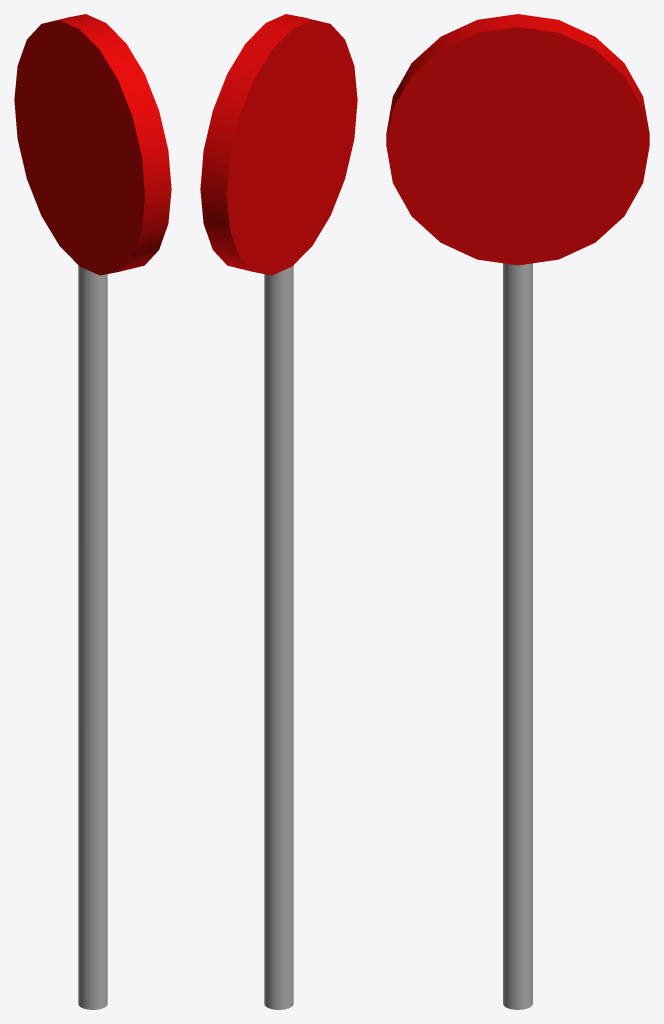
Rendered from trafficsing2.fbx.
The picture shows the model from 3 angles, left to right: view 1: azimuth 30°, elevation 25°; view 2: azimuth 150°, elevation 25°; view 3: azimuth 270°, elevation 25°; orthographic projection.
Visible parts, largest first — view 1: trafficsing2; view 2: trafficsing2; view 3: trafficsing2.
Boxes of the visible parts, x1,y1,x2,y2 form: trafficsing2: (14, 14, 171, 1009); trafficsing2: (200, 14, 357, 1009); trafficsing2: (386, 14, 649, 1009).
Size of the model in its own units: 0.2427 by 8.58 by 2.08.
